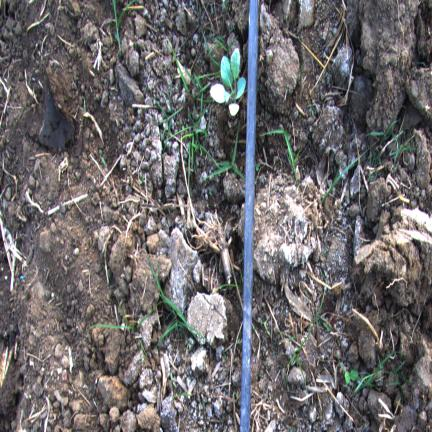crop: (210, 49, 246, 116)
